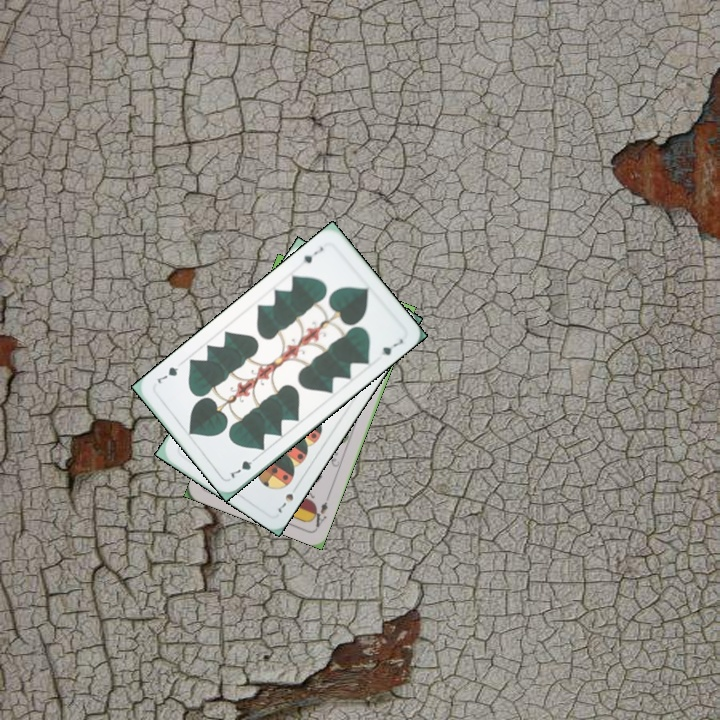EA: (307, 491, 332, 530)
G7: (226, 452, 261, 481), (295, 242, 326, 268)
S7: (274, 489, 296, 516)
